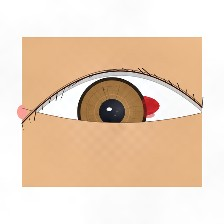hemorrhage_spot: (107, 82, 168, 130)
